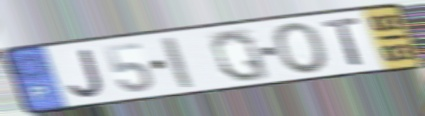5: (101, 40, 156, 94)
I: (158, 34, 197, 91)
J: (66, 47, 107, 99)
O: (271, 20, 332, 75)
Q: (209, 28, 273, 83)
T: (321, 15, 366, 68)
